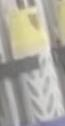cylinder: (1, 1, 65, 126)
